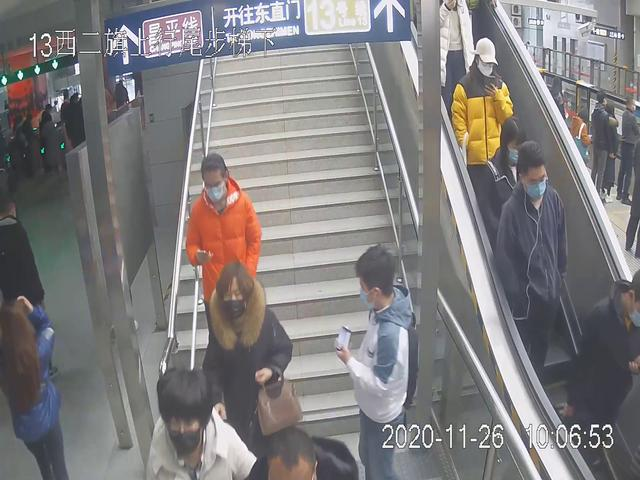person: (197, 262, 297, 480), (336, 239, 423, 480), (496, 138, 571, 396), (180, 152, 268, 352), (449, 33, 512, 221)
